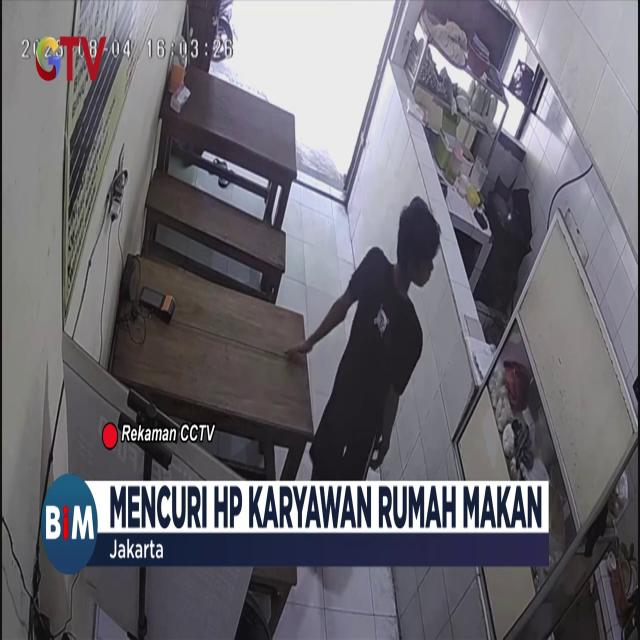pencurian: (286, 195, 442, 481)
